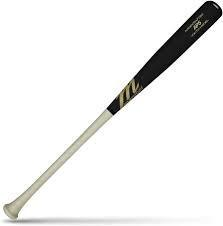Baseball-Bat: (4, 1, 222, 219)
